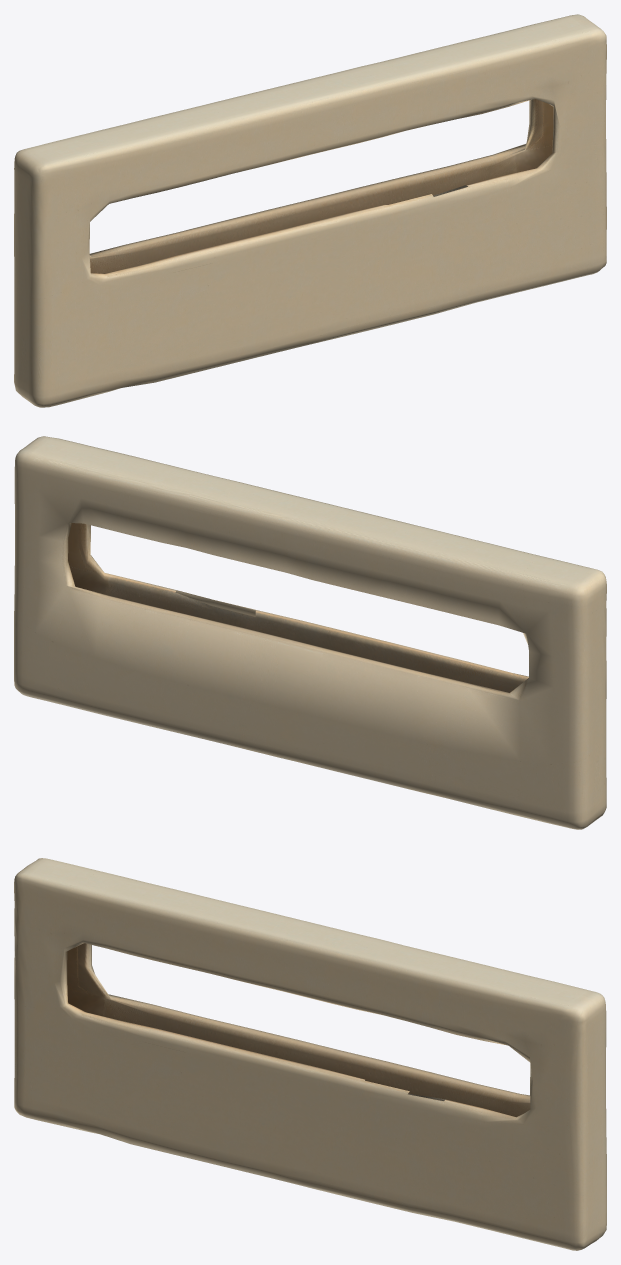
The model's file is house_mod_window_banjiha.glb.
3 renders of one model, top to bottom at view 1: azimuth 30°, elevation 25°; view 2: azimuth 150°, elevation 25°; view 3: azimuth 330°, elevation 25°, orthographic.
Bounding box in the file's own units: 2 × 0.8209 × 0.1718.
1 material, 1 textured.
